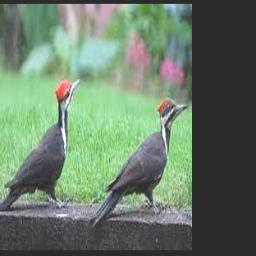Woodpecker: (90, 96, 189, 226), (0, 78, 81, 210)
